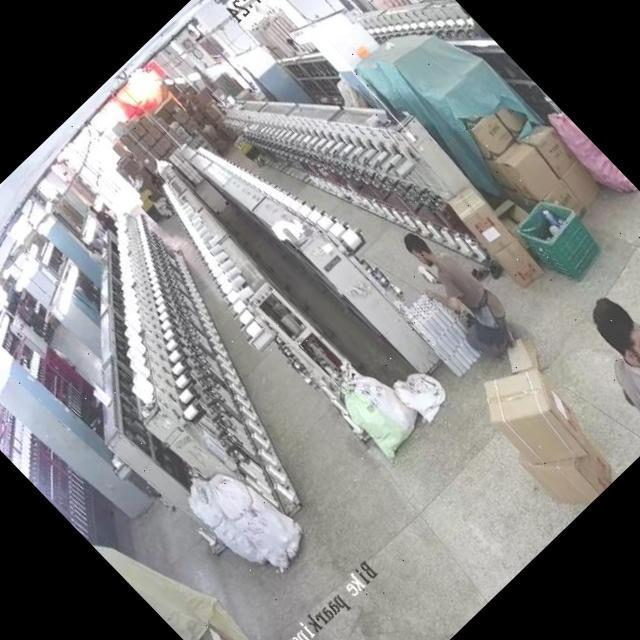person: (388, 222, 513, 349), (551, 288, 640, 444), (452, 4, 490, 43), (83, 199, 115, 231)
